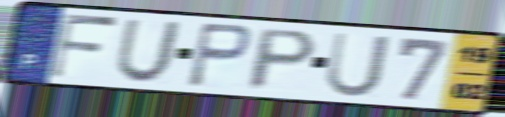7: (395, 35, 451, 103)
F: (46, 11, 122, 81)
P: (244, 27, 321, 92), (184, 20, 254, 90)
U: (112, 18, 185, 85), (323, 30, 393, 99)
